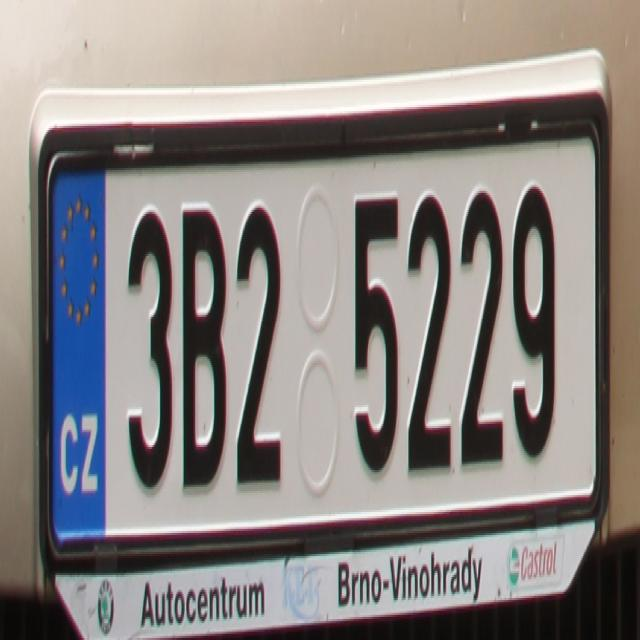2: (233, 206, 287, 493), (459, 185, 509, 472), (407, 189, 452, 468)
3: (126, 201, 172, 485)
5: (350, 189, 400, 466)
9: (511, 176, 555, 449)
B: (180, 197, 226, 483)
